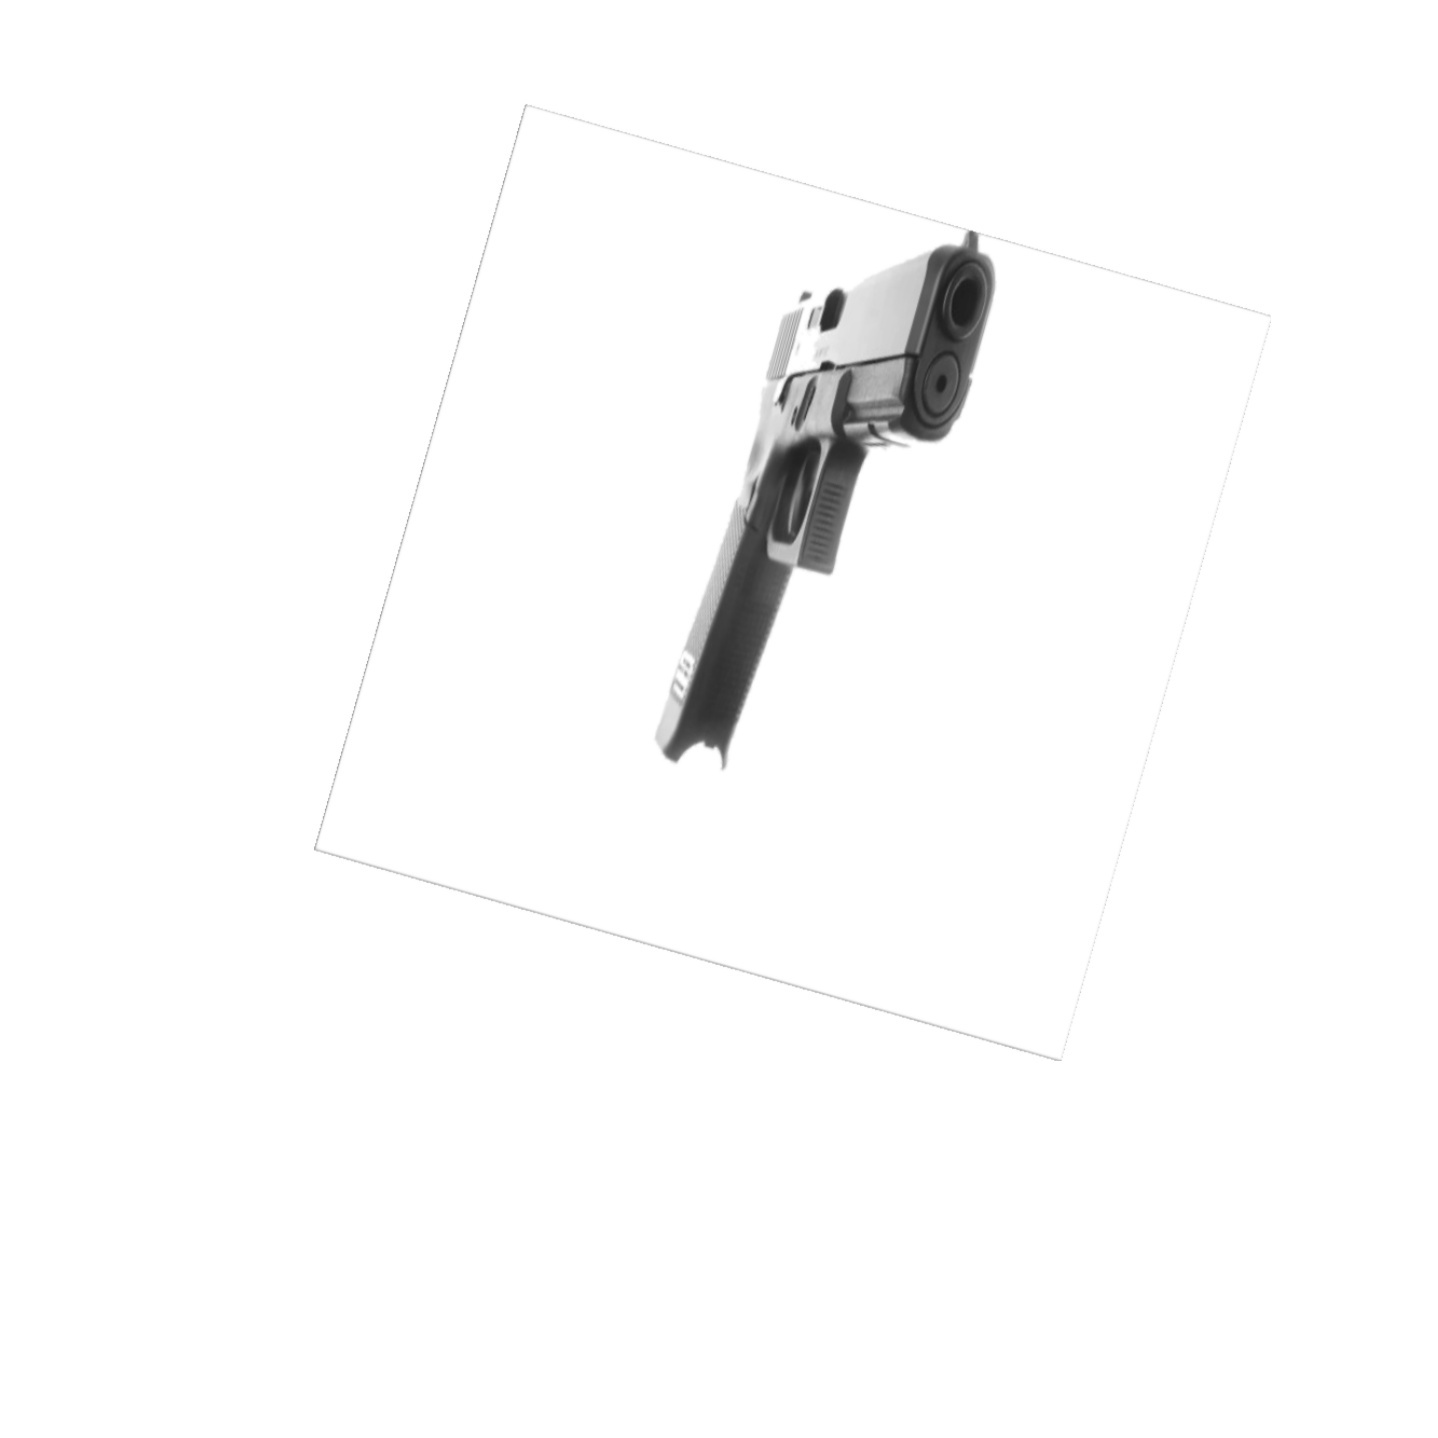gun: (653, 226, 1003, 782)
